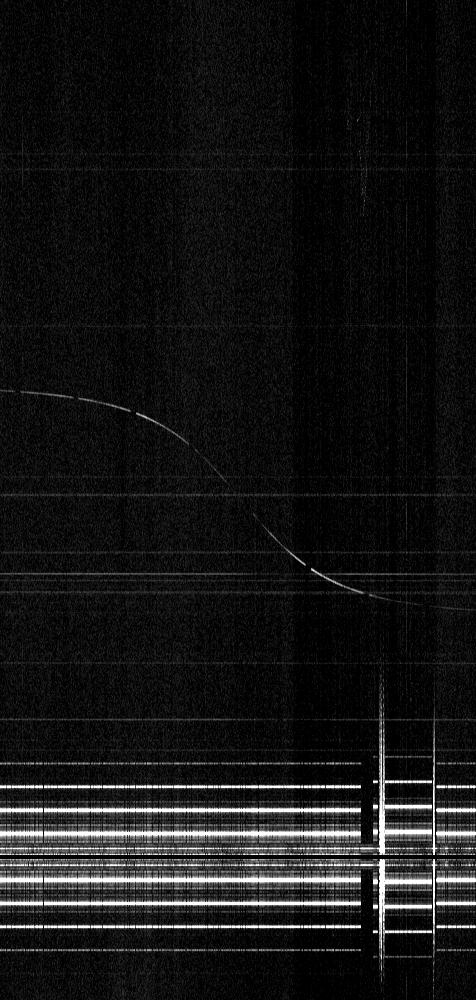signal: (0, 0, 475, 999)
